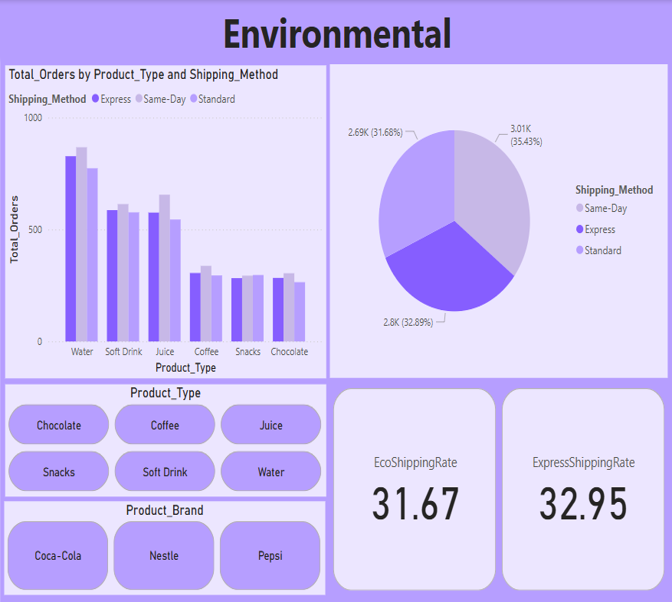

The page's visual inventory and layout, read from the dashboard file:
{"tool":"powerbi","page":{"name":"Environmental","canvas":[1280,720],"ordinal":5},"visuals":[{"type":"shape","box":[9.6,0,306,720.4],"z":0},{"type":"textbox","box":[315.6,0,964.7,76.8],"z":1000},{"type":"textbox","box":[26.1,38.4,275.8,96.1],"z":2000},{"type":"pageNavigator","box":[62.7,150.9,200.9,561.8],"z":3000},{"type":"clusteredColumnChart","fields":{"Category":["cleaned_new_retail_data.Product_Type"],"Y":["cleaned_new_retail_data.Total_Orders"],"Series":["cleaned_new_retail_data.Shipping_Method"]},"box":[322,78,460,374],"z":4000},{"type":"pieChart","fields":{"Y":["Count(cleaned_new_retail_data.Customer_ID)"],"Category":["cleaned_new_retail_data.Shipping_Method"]},"box":[788.3,77.5,484.2,375],"z":5000},{"type":"advancedSlicerVisual","fields":{"Values":["cleaned_new_retail_data.Product_Type"]},"box":[322.5,460,460,134.2],"z":6000},{"type":"advancedSlicerVisual","fields":{"Values":["cleaned_new_retail_data.Product_Brand"]},"box":[321.7,600,460,111.7],"z":7000},{"type":"cardVisual","fields":{"Data":["cleaned_new_retail_data.EcoShippingRate","cleaned_new_retail_data.ExpressShippingRate"]},"box":[788,460,484,252],"z":8000}]}

Visuals, with their boxes on the page's 1280x720 design canvas (x1, y1, x2, y2). These are canvas units, not pixel positions in the 672x602 screenshot, which may show the page scaled, cropped or inside an application window:
shape: region(10, 0, 316, 720)
textbox: region(316, 0, 1280, 77)
textbox: region(26, 38, 302, 134)
pageNavigator: region(63, 151, 264, 713)
clusteredColumnChart - cleaned_new_retail_data.Product_Type x cleaned_new_retail_data.Total_Orders: region(322, 78, 782, 452)
pieChart - Count(cleaned_new_retail_data.Customer_ID) x cleaned_new_retail_data.Shipping_Method: region(788, 78, 1272, 452)
advancedSlicerVisual - cleaned_new_retail_data.Product_Type: region(322, 460, 782, 594)
advancedSlicerVisual - cleaned_new_retail_data.Product_Brand: region(322, 600, 782, 712)
cardVisual - cleaned_new_retail_data.EcoShippingRate x cleaned_new_retail_data.ExpressShippingRate: region(788, 460, 1272, 712)
